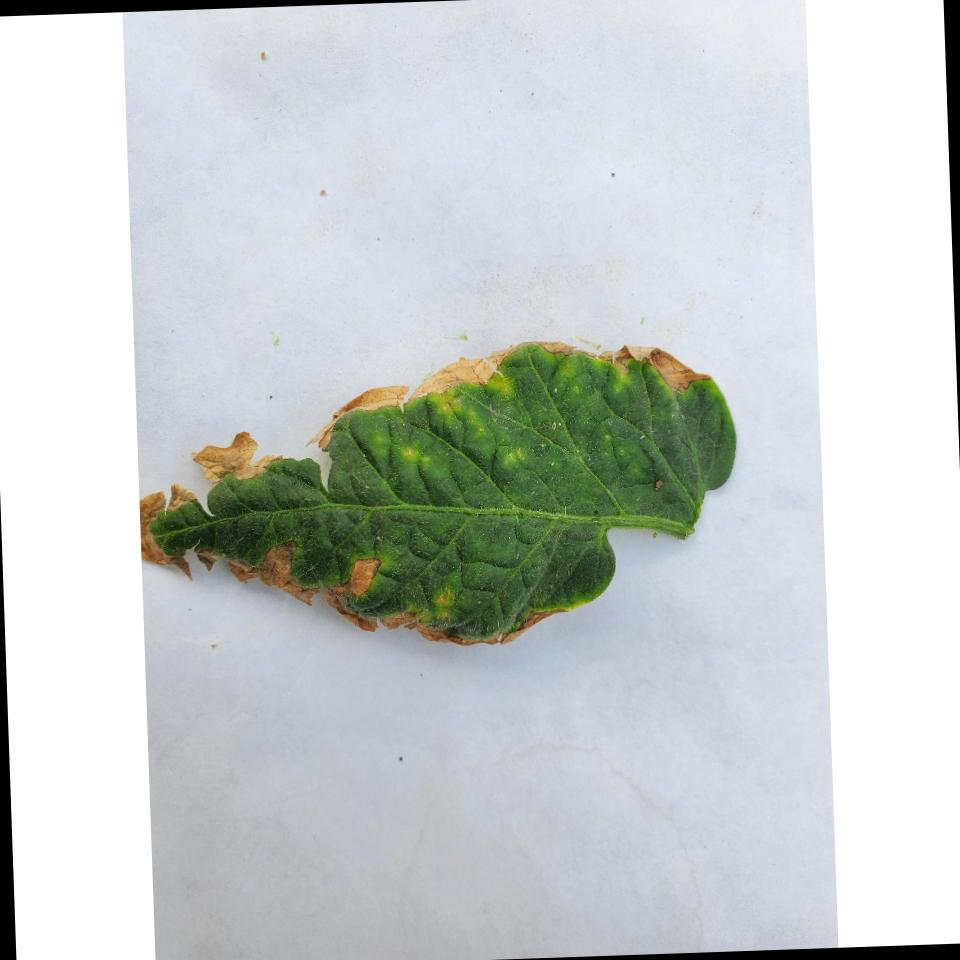tomato_bacterial_blight: (137, 320, 756, 662)
